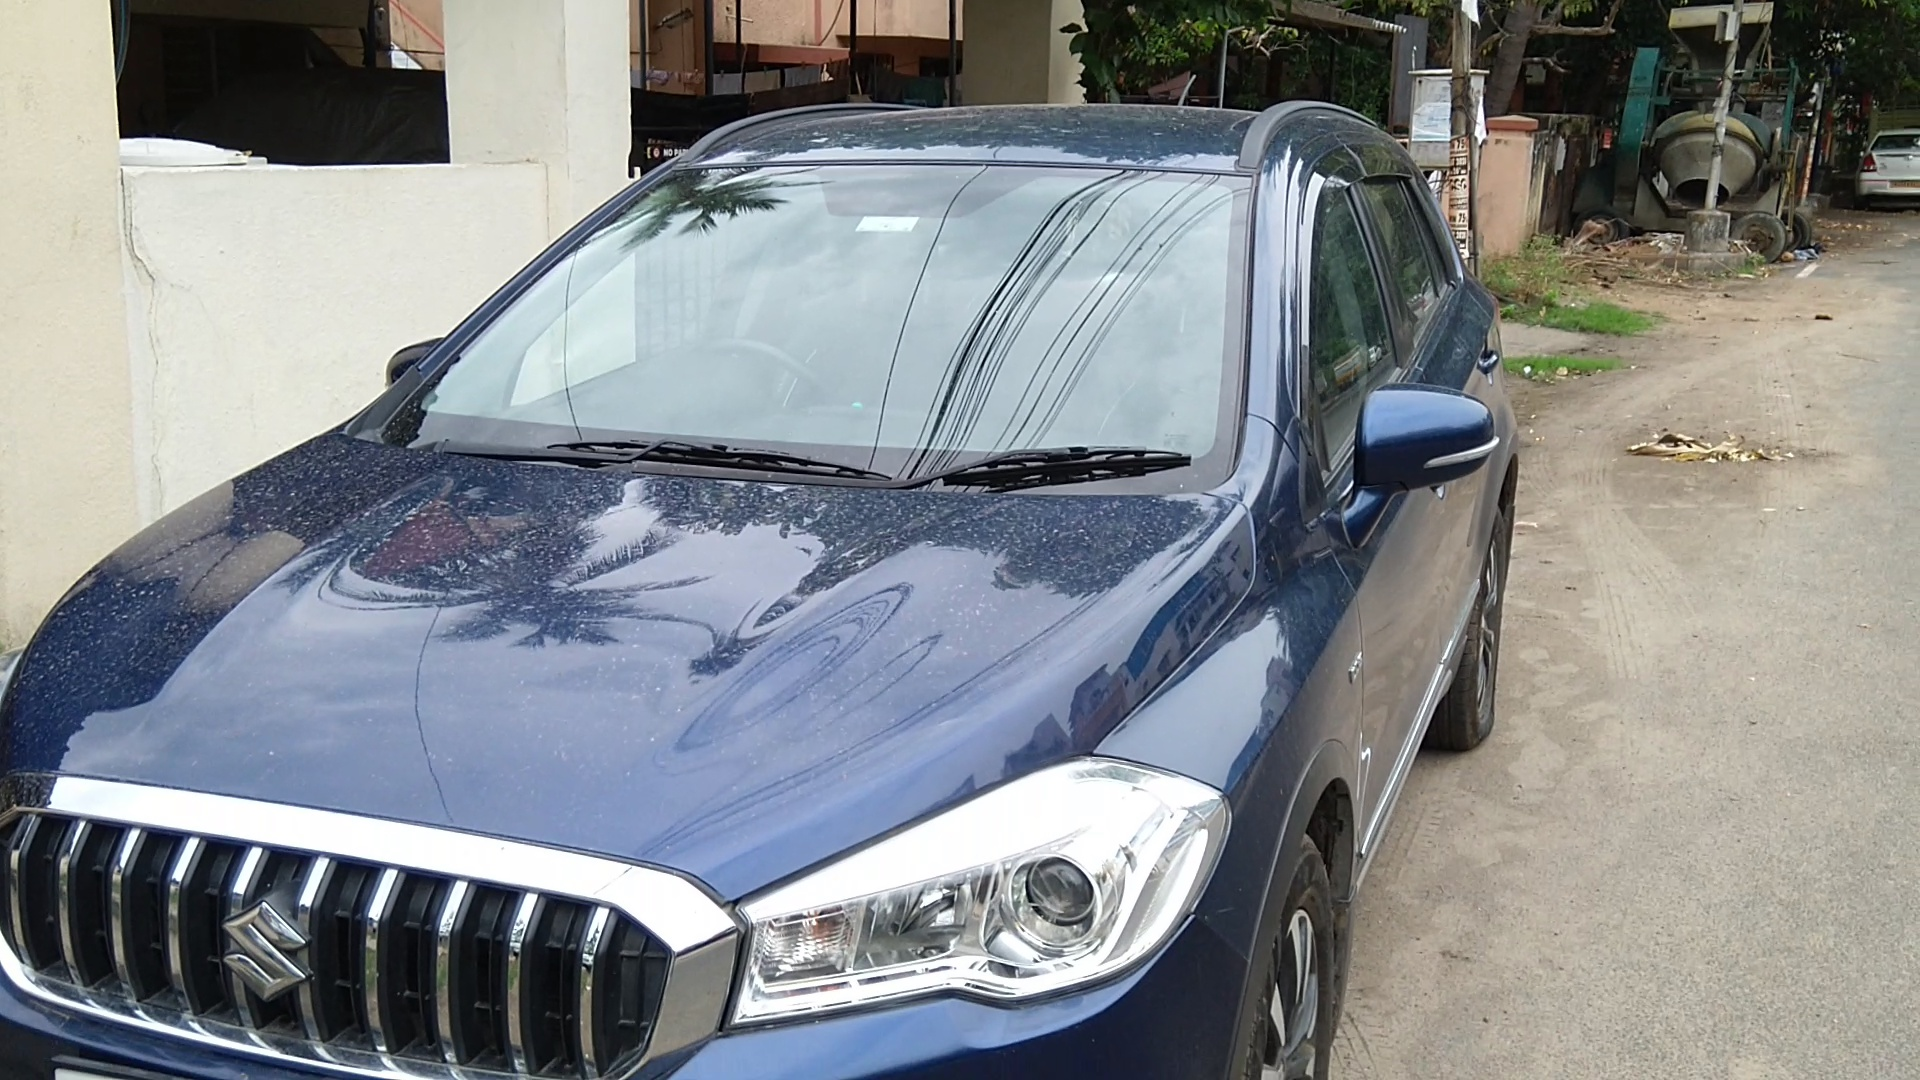front_grill: (8, 756, 723, 1080)
headlamp: (729, 740, 1244, 1077)
ovr_mirror: (1348, 380, 1507, 500)
